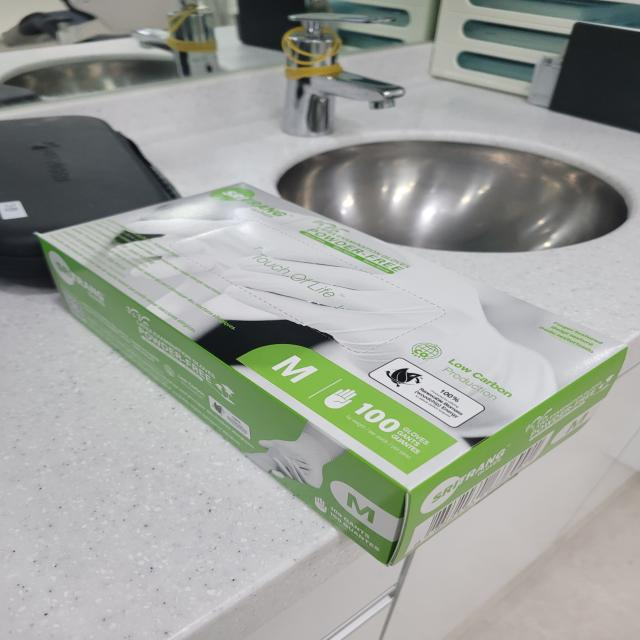glove: (26, 162, 640, 579)
